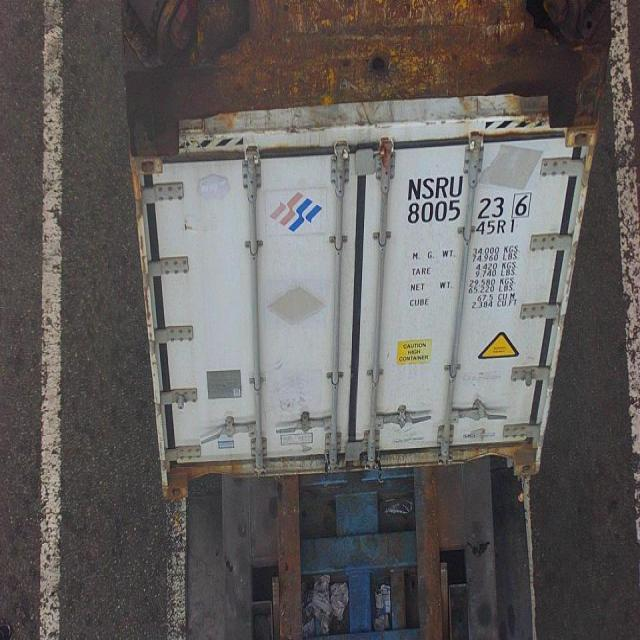ISO: (478, 218, 520, 235)
container_number: (405, 178, 530, 220)
